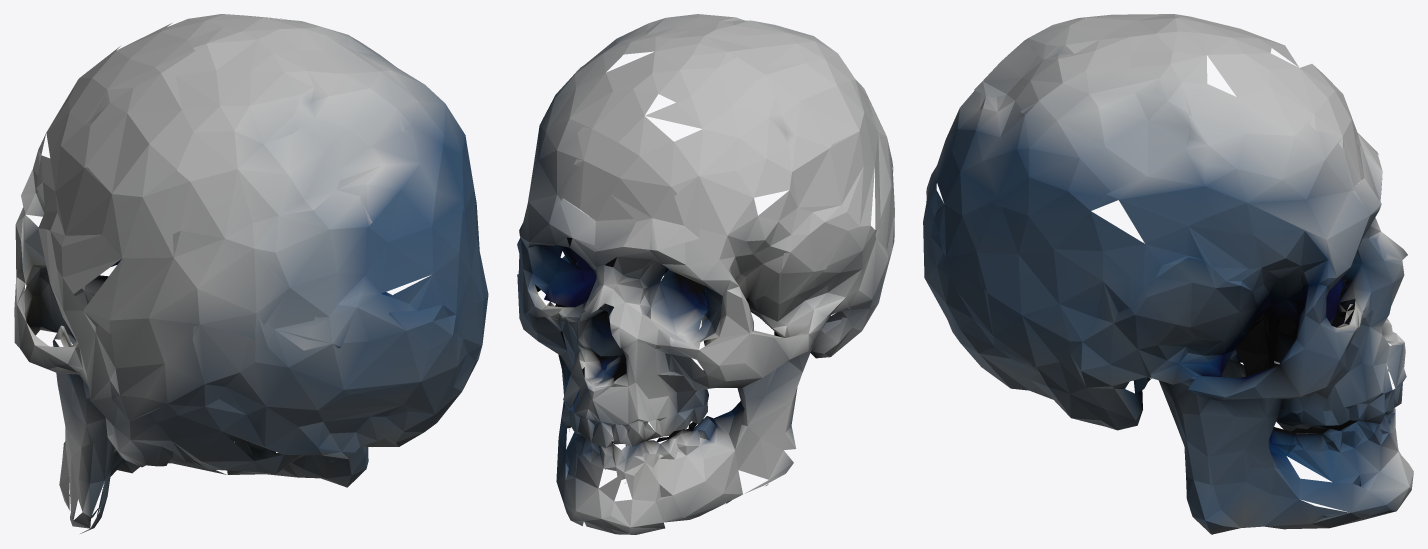
File: skull.gltf
3 renders of one model, left to right at view 1: azimuth 30°, elevation 25°; view 2: azimuth 150°, elevation 25°; view 3: azimuth 270°, elevation 25°, orthographic. The views are drawn at different scales.
Parts seen in each view (by area): view 1: test; view 2: test; view 3: test.
Part boxes in pixels (x1,y1,x2,y2): test: (14,14,488,533); test: (517,14,894,534); test: (923,14,1413,534).
Size of the model in its own units: 4.74 by 6.09 by 5.8.
